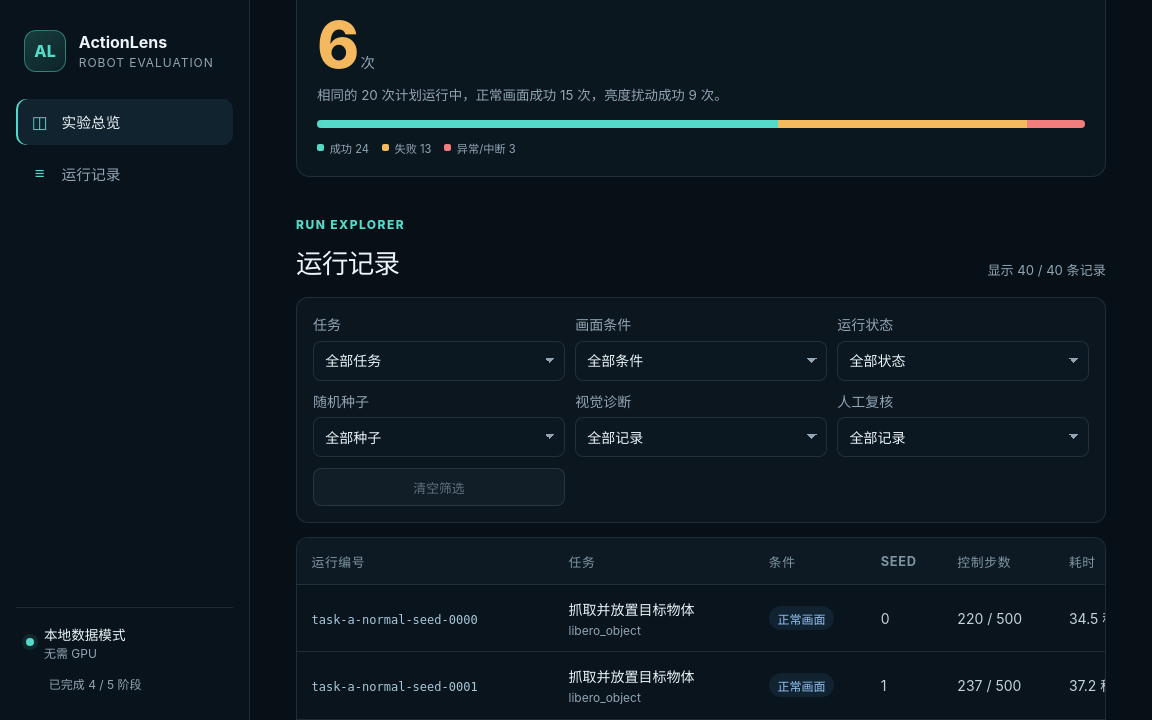
Test case: App › loads the validated dashboard and filters failed runs
(page scrolled)
Expected: the text "显示 40 / 40 条记录" is shown, [987,260,1106,279]
Select "失败" in the dropdown labelled "运行状态" at (963, 361), box [837,341,1089,381]
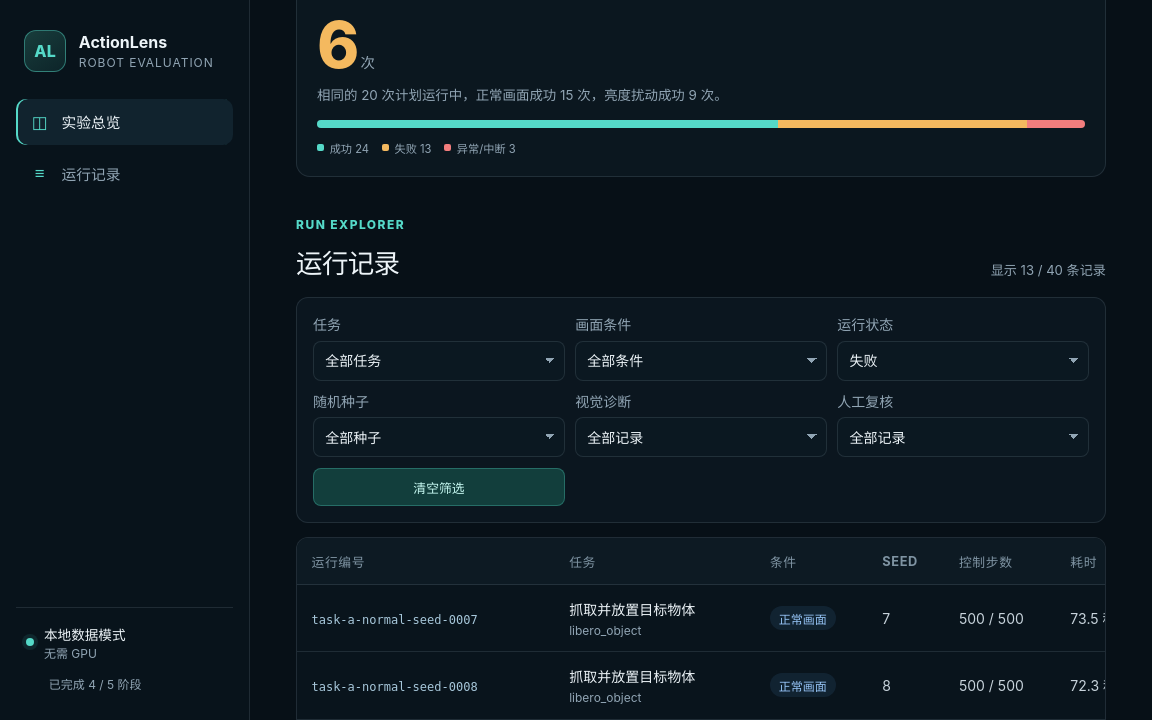
Now the text "显示 13 / 40 条记录" is shown, box [991,260,1106,279]
